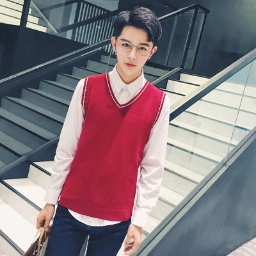face: (111, 7, 163, 76)
